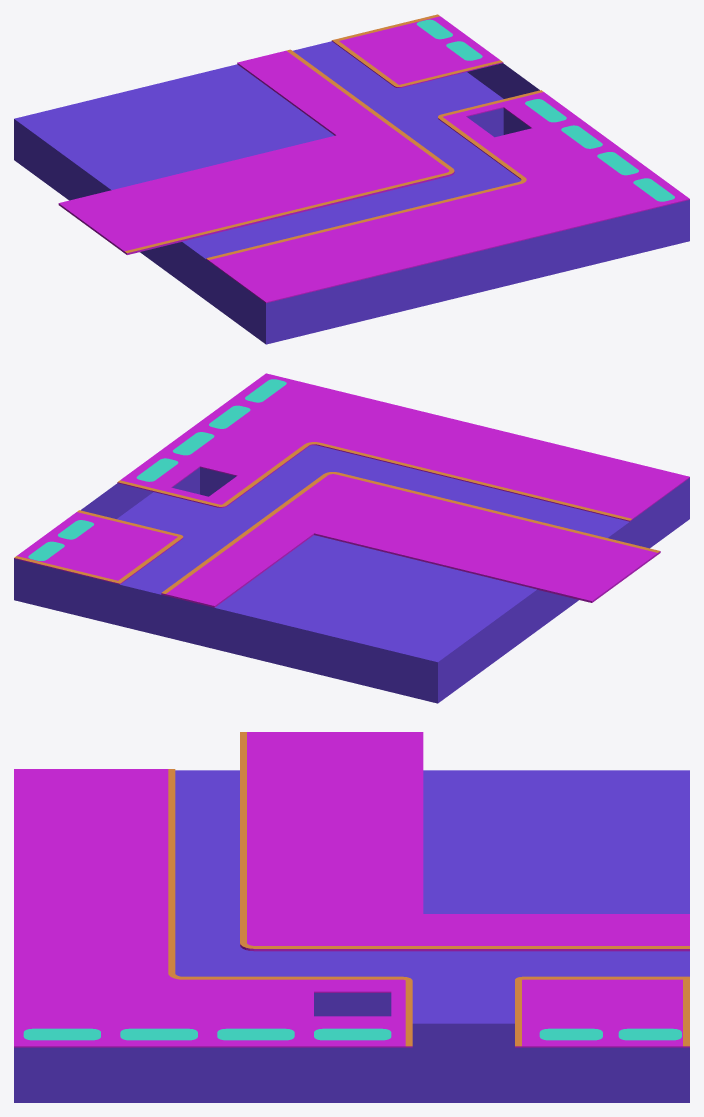
Rendered from kaldrm.fbx.
The picture shows the model from 3 angles, top to bottom: view 1: azimuth 30°, elevation 25°; view 2: azimuth 150°, elevation 25°; view 3: azimuth 270°, elevation 25°; orthographic projection. The views are drawn at different scales.
Parts seen in each view (by area): view 1: kaldırım, alt, cam; view 2: kaldırım, alt, cam; view 3: kaldırım, alt, cam.
Part boxes in pixels (<box>): kaldırım: <box>58,14,689,303</box>; alt: <box>14,41,689,344</box>; cam: <box>416,19,674,201</box>; kaldırım: <box>14,373,689,607</box>; alt: <box>14,445,689,703</box>; cam: <box>28,379,286,560</box>; kaldırım: <box>14,732,689,1047</box>; alt: <box>14,770,689,1102</box>; cam: <box>23,1028,681,1040</box>.
Size of the model in its own units: 4784 by 411 by 4364.
